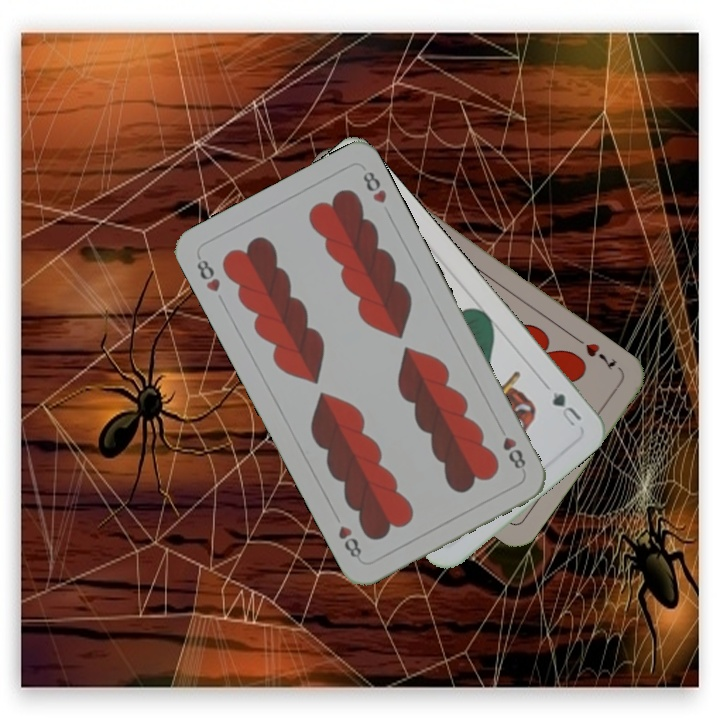GU: (548, 387, 584, 429)
H7: (581, 338, 620, 373)
H8: (192, 251, 223, 295), (498, 432, 529, 475)
